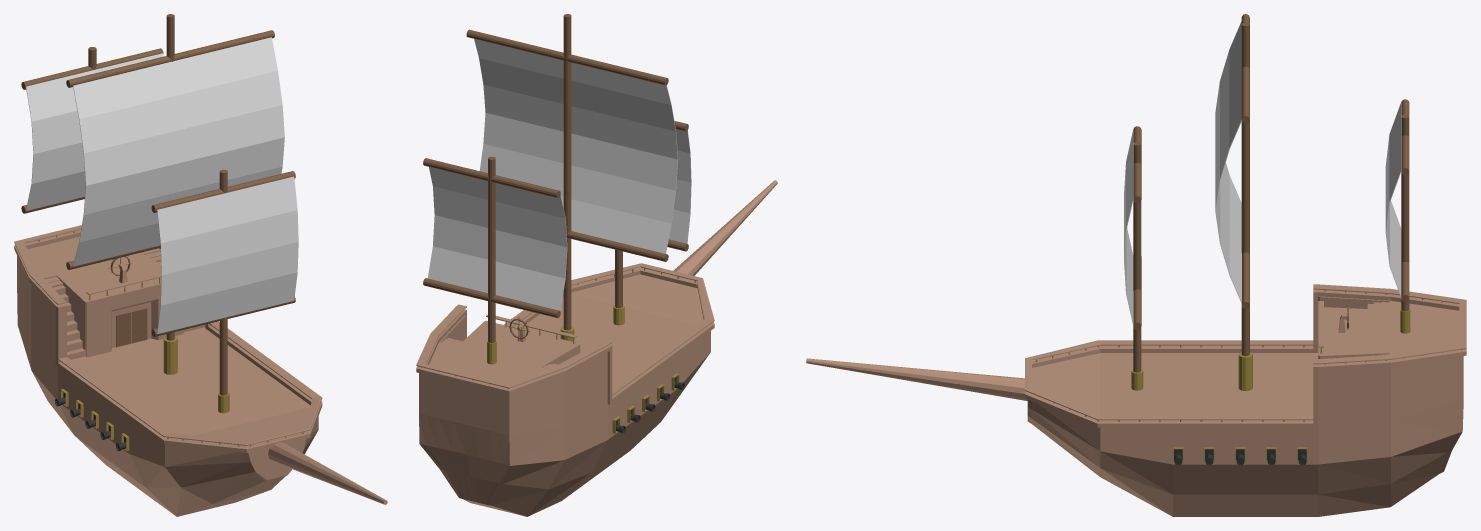
File: vaixell_lowpoly.fbx
3 renders of one model, left to right at view 1: azimuth 30°, elevation 25°; view 2: azimuth 150°, elevation 25°; view 3: azimuth 270°, elevation 25°, orthographic. The views are drawn at different scales.
Parts seen in each view (by area): view 1: Cube.001, Main Sail, Bow Sail, Stern Sail, Cylinder.009, Cylinder.005, Cube.007, Cube.003, Cylinder.007, Cylinder.001, Cylinder.003, Cylinder.011 (+2 smaller); view 2: Cube.001, Main Sail, Stern Sail, Cylinder, Bow Sail, Cylinder.005, Cylinder.009, Cylinder.002, Cylinder.003, Cylinder.004, Cylinder.006, Cube.006 (+1 smaller); view 3: Cube.001, Main Sail, Cylinder.009, Stern Sail, Cylinder, Bow Sail, Cylinder.001, Cylinder.002.
Part boxes in pixels (x1,y1,x2,y2): Cube.001: (14, 225, 322, 516); Main Sail: (73, 37, 284, 266); Bow Sail: (157, 176, 298, 333); Stern Sail: (26, 53, 163, 210); Cylinder.009: (268, 442, 387, 504); Cylinder.005: (66, 30, 274, 87); Cube.007: (116, 308, 147, 347); Cube.003: (45, 276, 85, 359); Cylinder.007: (151, 171, 295, 212); Cylinder.001: (219, 169, 227, 395); Cylinder.003: (21, 48, 163, 89); Cylinder.011: (163, 336, 177, 374); Cube.001: (416, 263, 714, 516); Main Sail: (474, 39, 678, 253); Stern Sail: (427, 167, 567, 310); Cylinder: (563, 14, 571, 330); Bow Sail: (669, 129, 691, 243); Cylinder.005: (466, 29, 668, 85); Cylinder.009: (673, 180, 777, 275); Cylinder.002: (488, 156, 495, 343); Cylinder.003: (423, 158, 560, 198); Cylinder.004: (423, 278, 560, 318); Cylinder.006: (566, 231, 668, 261); Cube.006: (612, 373, 679, 433); Cube.001: (1025, 284, 1466, 516); Main Sail: (1215, 21, 1241, 303); Cylinder.009: (806, 358, 1027, 400); Stern Sail: (1385, 103, 1401, 297); Cylinder: (1241, 22, 1249, 356); Bow Sail: (1124, 130, 1133, 324); Cylinder.001: (1133, 142, 1141, 372); Cylinder.002: (1401, 114, 1409, 311).
Bounding box in the file's own units: 1048 × 383 × 837.
